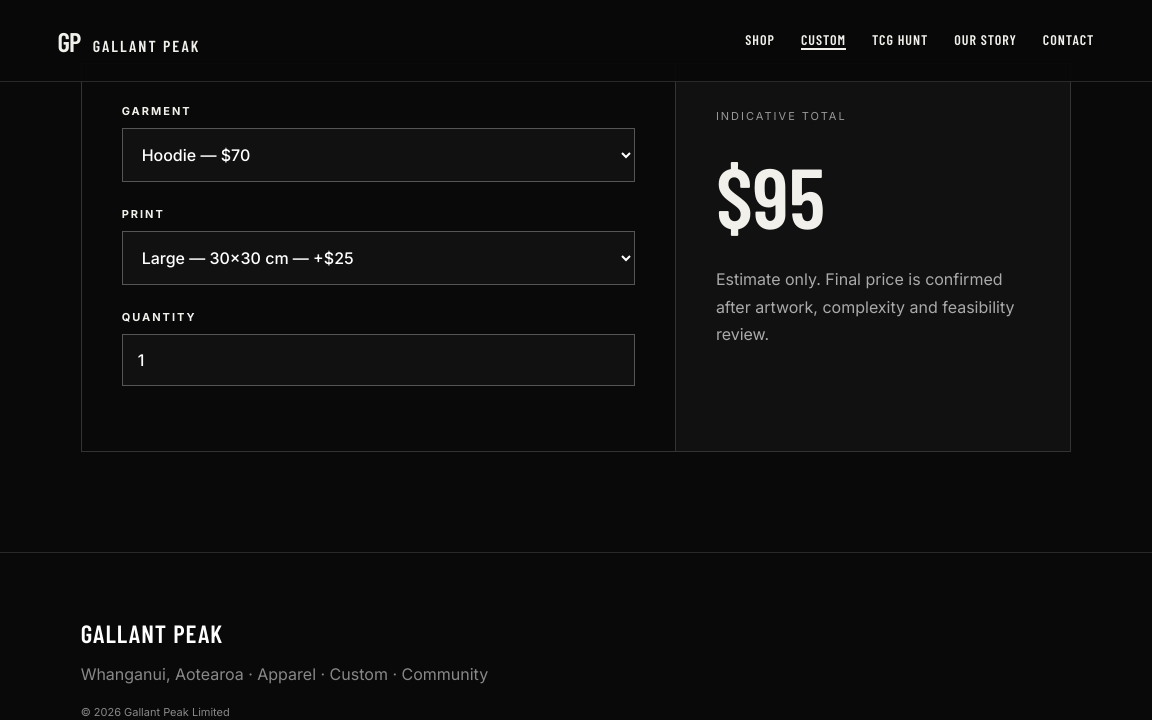
Custom estimator › withholds the estimate for invalid quantity -1
(page scrolled)
Replace the text in the number field labelled "QUANTITY" with "-1" at (378, 360), box x1=122 y1=334 x2=635 y2=386
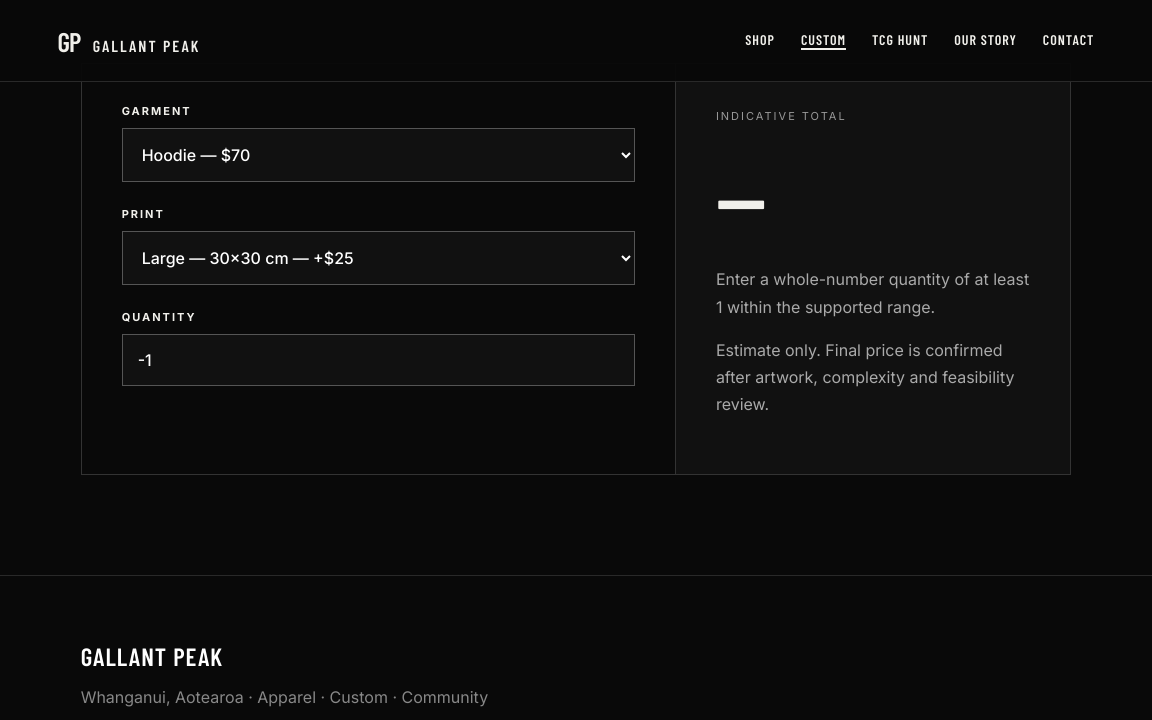
Now the message reads "Enter a whole-number quantity of at least 1 within the supported range.", box x1=716 y1=269 x2=1029 y2=316
